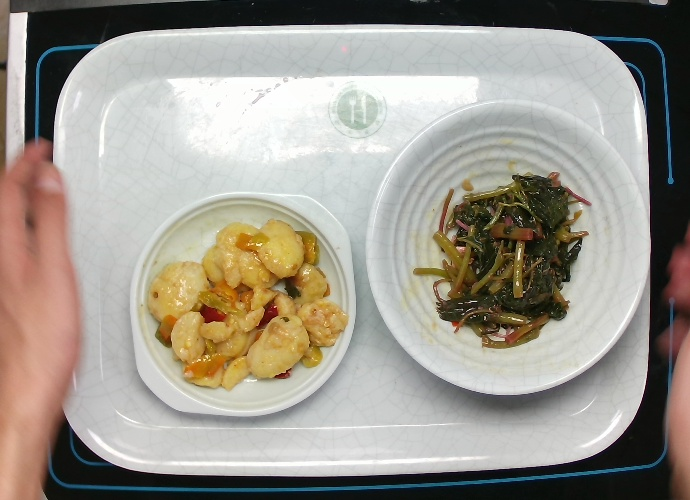JYsf-Shuang_Er_Pan: (123, 184, 364, 425)
JYsf-Xiao_Tang_Wan: (358, 95, 655, 400)
